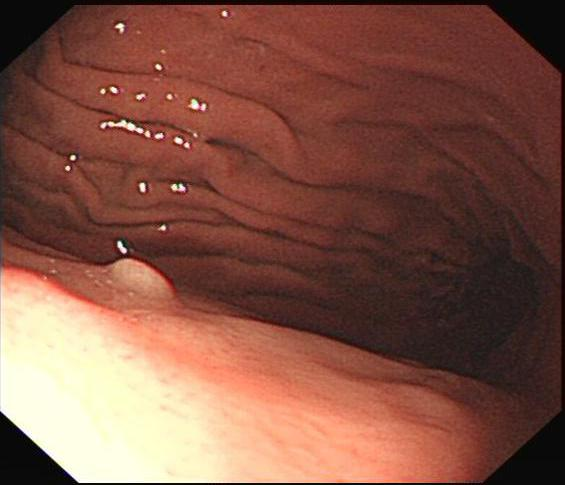Polyp: (97, 248, 195, 299)
